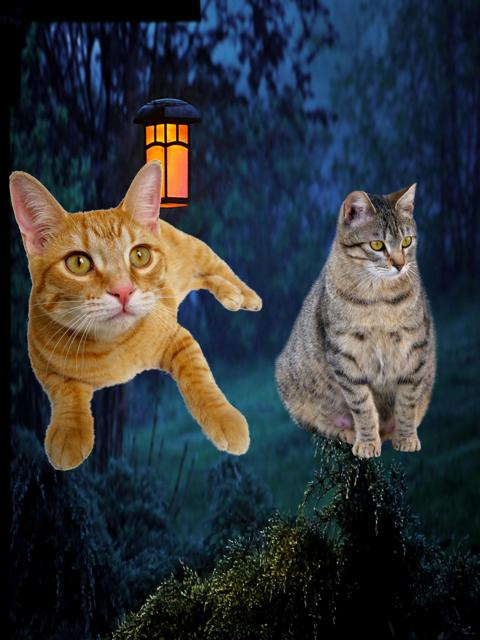cat: (10, 160, 261, 469), (268, 176, 444, 464)
